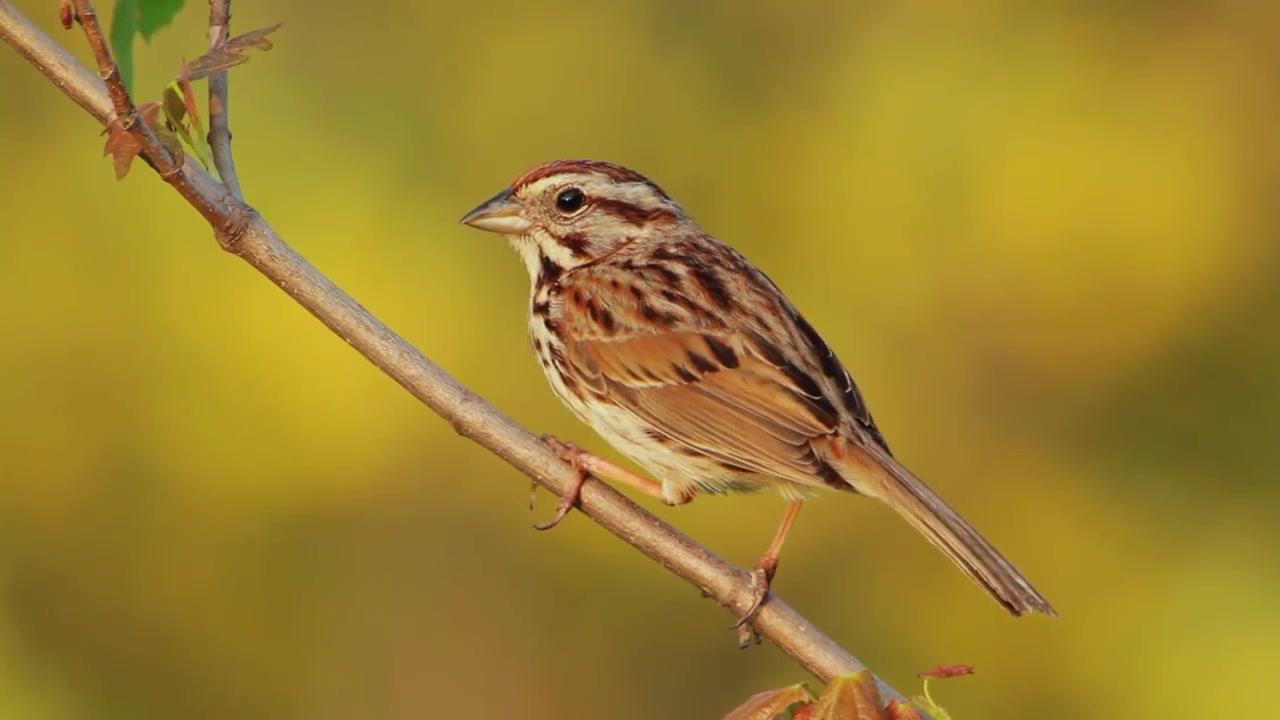bird: (452, 152, 1062, 650)
